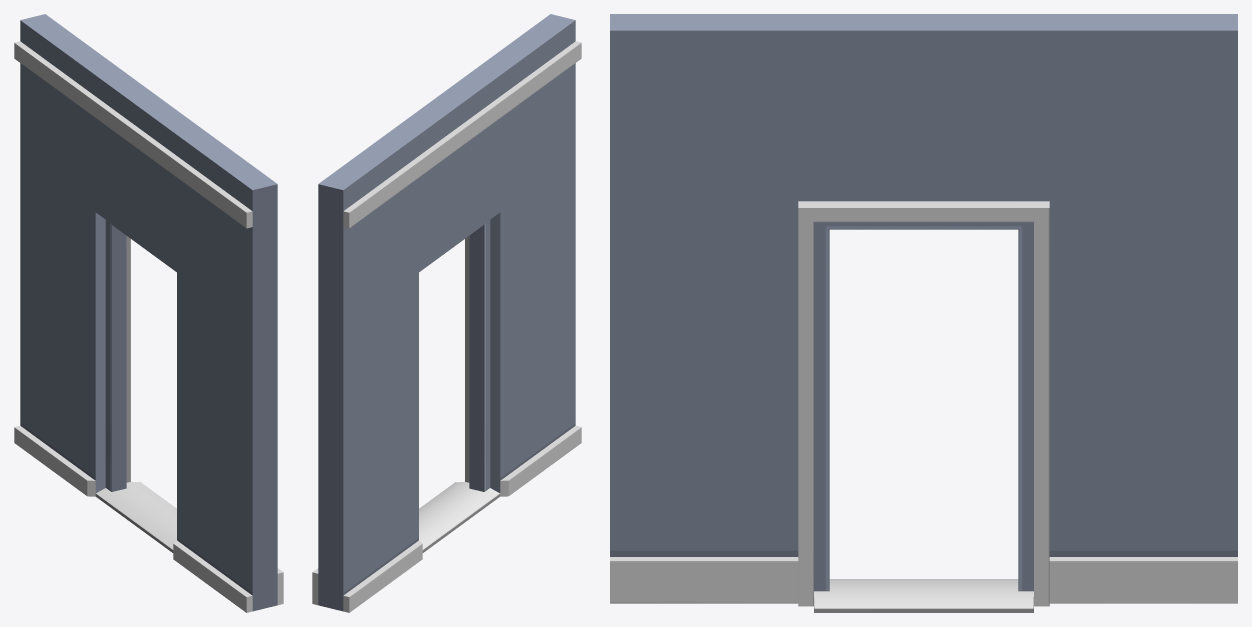
Rendered from office_pack_demoRoom_wall_door.fbx.
The picture shows the model from 3 angles, left to right: view 1: azimuth 30°, elevation 25°; view 2: azimuth 150°, elevation 25°; view 3: azimuth 270°, elevation 25°; orthographic projection. The views are drawn at different scales.
Visible parts, largest first — view 1: office_pack_demoRoom_wall_door; view 2: office_pack_demoRoom_wall_door; view 3: office_pack_demoRoom_wall_door.
Part boxes in pixels (left/top/right/bottom): office_pack_demoRoom_wall_door: left=14, top=14, right=283, bottom=612; office_pack_demoRoom_wall_door: left=312, top=14, right=581, bottom=612; office_pack_demoRoom_wall_door: left=610, top=14, right=1237, bottom=612.
Size of the model in its own units: 25.5 by 200 by 200.
